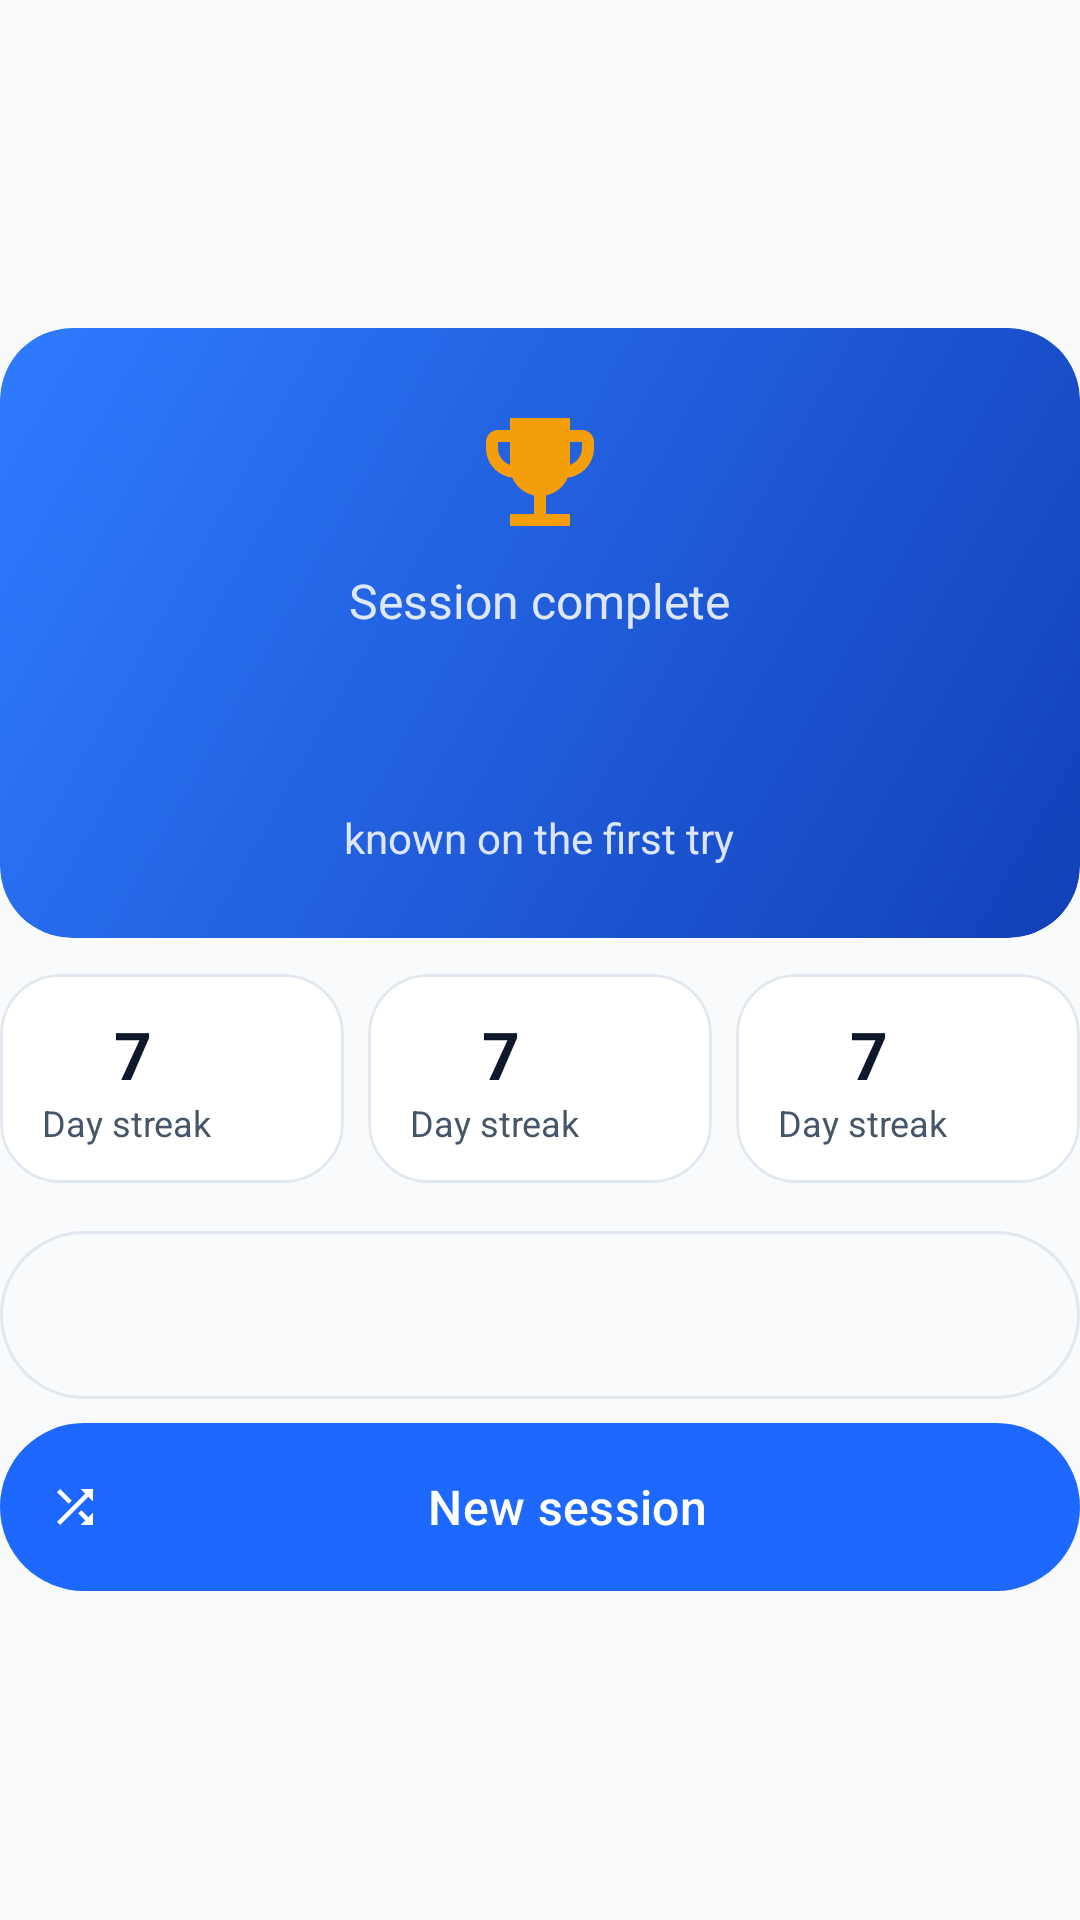

Named icons in this screenshot (1080w x 1920h) and their bounding boxes, (x1, y1, x2, y2):
trophy: (486, 418, 594, 526)
